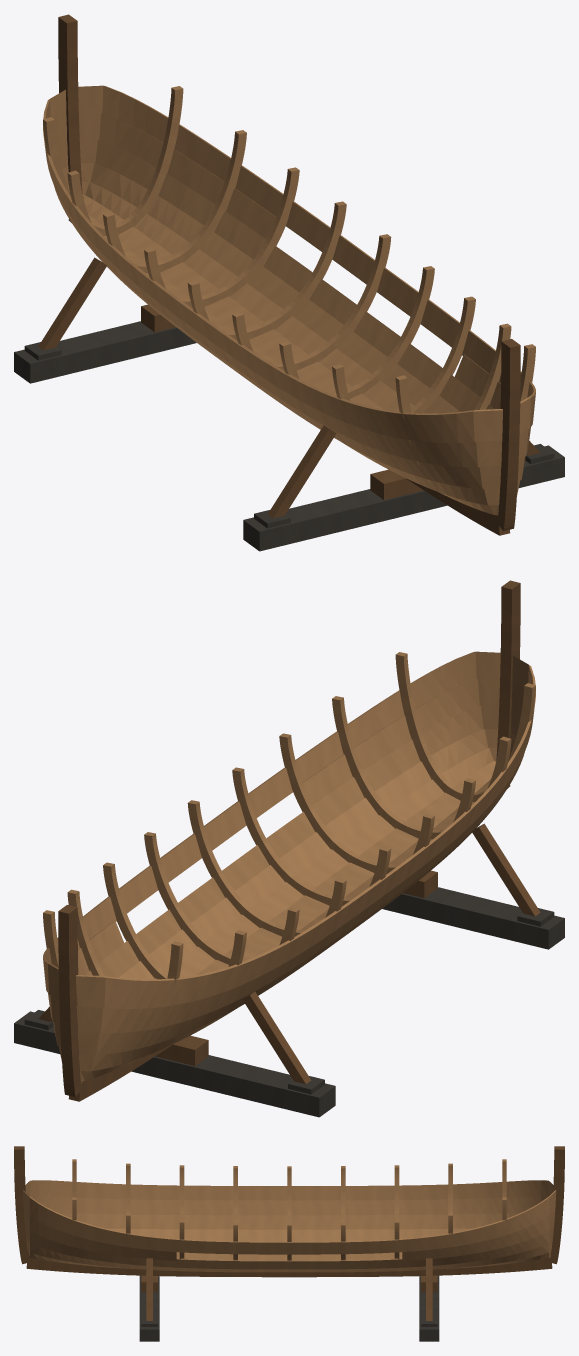
File: stage_2.glb
3 renders of one model, top to bottom at view 1: azimuth 30°, elevation 25°; view 2: azimuth 150°, elevation 25°; view 3: azimuth 270°, elevation 25°, orthographic. The views are drawn at different scales.
Visible parts, largest first — view 1: hull_strake_05_port_0, hull_strake_05_starboard_0, hull_strake_03_starboard_0, hull_strake_02_starboard_0, trestle_1_foot, hull_strake_01_starboard_0, hull_strake_04_port_0, trestle_0_foot, hull_strake_04_starboard_0, hull_strake_00_starboard_0, hull_strake_03_port_0, spine_bow_stem (+17 smaller); view 2: hull_strake_05_port_0, hull_strake_05_starboard_0, hull_strake_03_starboard_0, hull_strake_02_starboard_0, trestle_0_foot, hull_strake_01_starboard_0, hull_strake_04_port_0, trestle_1_foot, hull_strake_04_starboard_1, hull_strake_00_starboard_0, hull_strake_03_port_0, spine_stern_stem (+17 smaller); view 3: hull_strake_05_starboard_0, hull_strake_05_port_0, hull_strake_04_port_0, hull_strake_03_port_0, hull_strake_03_starboard_0, spine_keel, hull_strake_02_port_0, hull_strake_02_starboard_0, hull_strake_04_starboard_0, hull_strake_04_starboard_1, hull_strake_00_port_0, spine_bow_stem (+15 smaller).
Boxes of the visible parts, x1,y1,x2,y2 form: hull_strake_05_port_0: (43, 89, 502, 442); hull_strake_05_starboard_0: (78, 85, 535, 433); hull_strake_03_starboard_0: (79, 139, 525, 481); hull_strake_02_starboard_0: (81, 163, 520, 494); trestle_1_foot: (243, 445, 564, 551); hull_strake_01_starboard_0: (81, 182, 424, 413); hull_strake_04_port_0: (54, 116, 502, 467); trestle_0_foot: (14, 321, 196, 383); hull_strake_04_starboard_0: (79, 112, 276, 238); hull_strake_00_starboard_0: (82, 194, 382, 408); hull_strake_03_port_0: (58, 143, 501, 488); spine_bow_stem: (495, 339, 520, 531); hull_strake_05_port_0: (76, 655, 535, 1008); hull_strake_05_starboard_0: (43, 651, 500, 999); hull_strake_03_starboard_0: (53, 705, 499, 1047); hull_strake_02_starboard_0: (58, 729, 497, 1060); trestle_0_foot: (14, 1011, 335, 1117); hull_strake_01_starboard_0: (154, 748, 497, 979); hull_strake_04_port_0: (76, 682, 524, 1033); trestle_1_foot: (382, 887, 564, 949); hull_strake_04_starboard_1: (302, 678, 499, 804); hull_strake_00_starboard_0: (196, 760, 496, 974); hull_strake_03_port_0: (77, 709, 520, 1054); spine_stern_stem: (58, 905, 83, 1097); hull_strake_05_starboard_0: (22, 1190, 556, 1254); hull_strake_05_port_0: (25, 1180, 553, 1200); hull_strake_04_port_0: (32, 1196, 546, 1215); hull_strake_03_port_0: (59, 1213, 519, 1229); hull_strake_03_starboard_0: (25, 1226, 553, 1269); spine_keel: (26, 1257, 552, 1277); hull_strake_02_port_0: (107, 1228, 471, 1241); hull_strake_02_starboard_0: (26, 1240, 552, 1272); hull_strake_04_starboard_0: (402, 1210, 555, 1260); hull_strake_04_starboard_1: (23, 1210, 176, 1260); hull_strake_00_port_0: (176, 1252, 402, 1259); spine_bow_stem: (14, 1146, 32, 1264).
Size of the model in its own units: 2.6 by 1.98 by 6.66.
6 materials, 6 textured.
